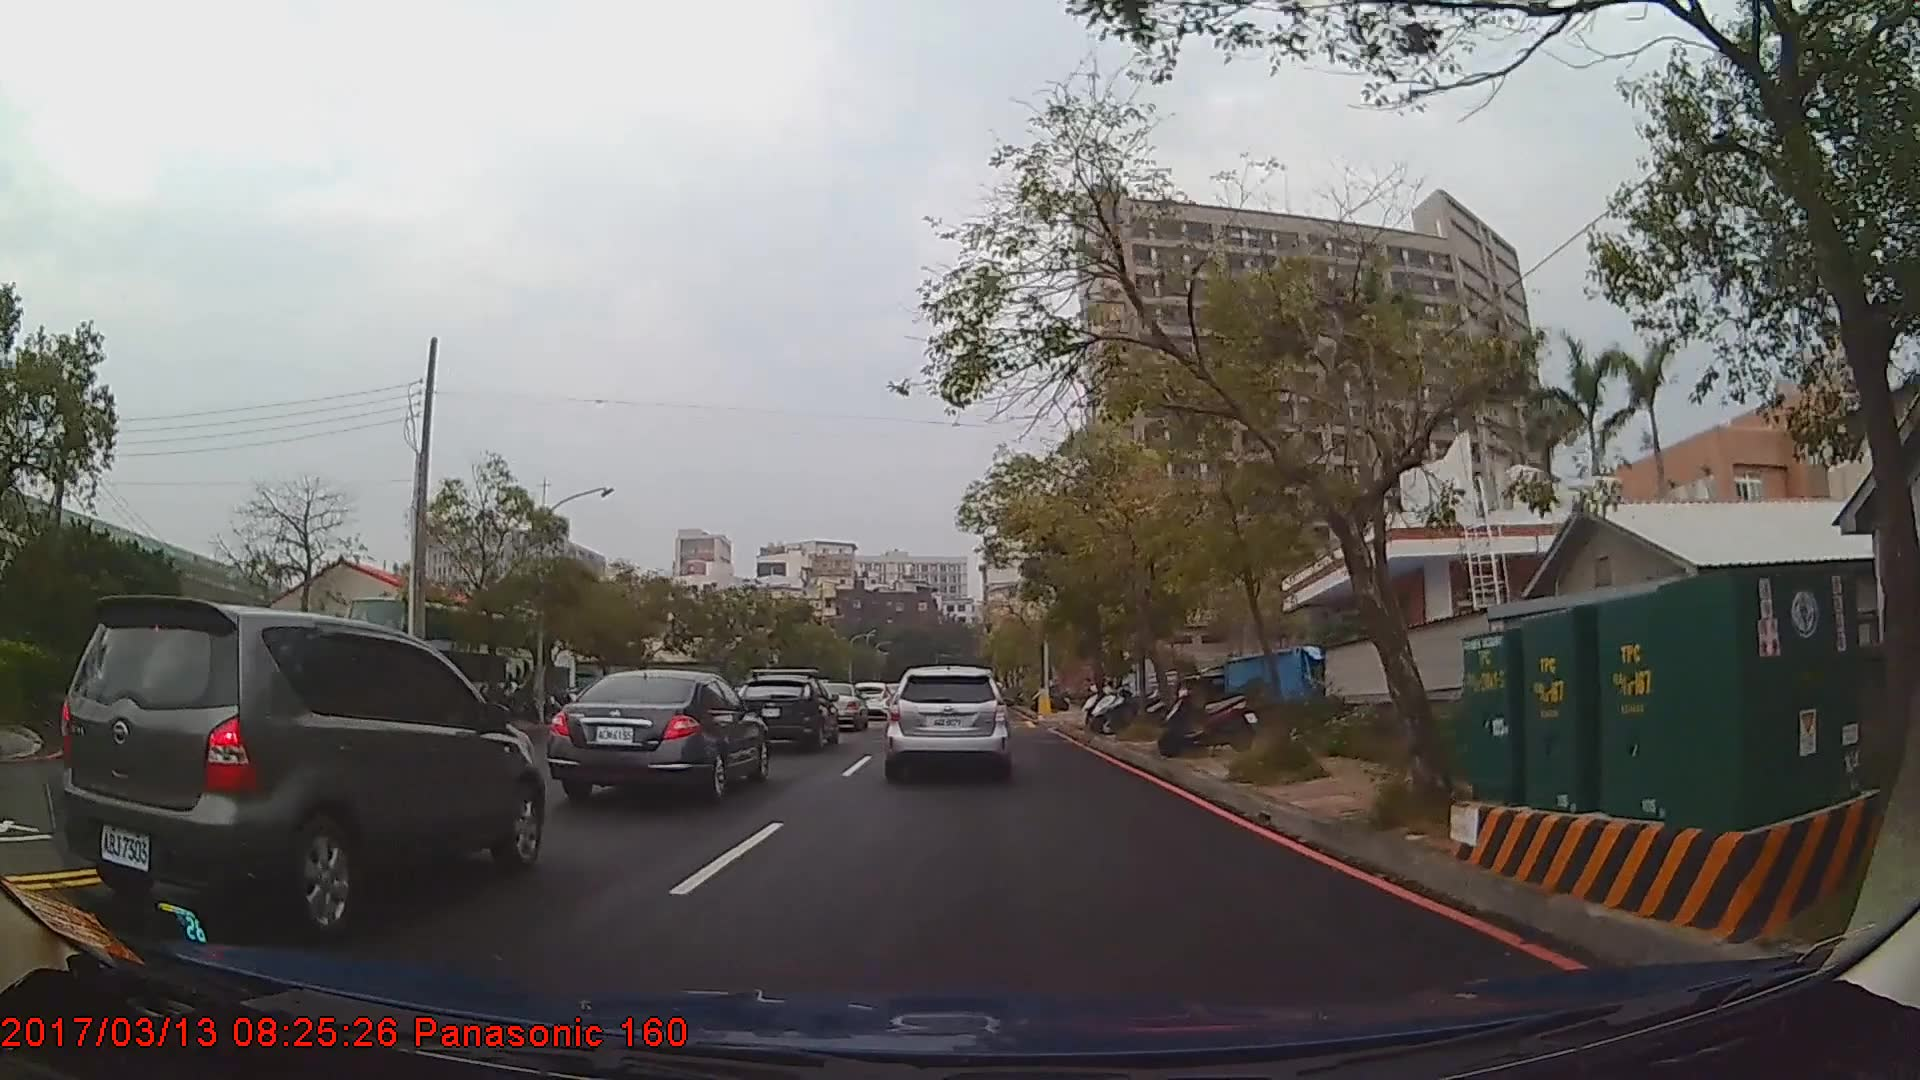vehicle: (57, 592, 545, 939), (546, 669, 769, 807), (340, 596, 535, 712), (884, 665, 1011, 781), (732, 671, 837, 752), (812, 680, 866, 731), (847, 679, 893, 719)
